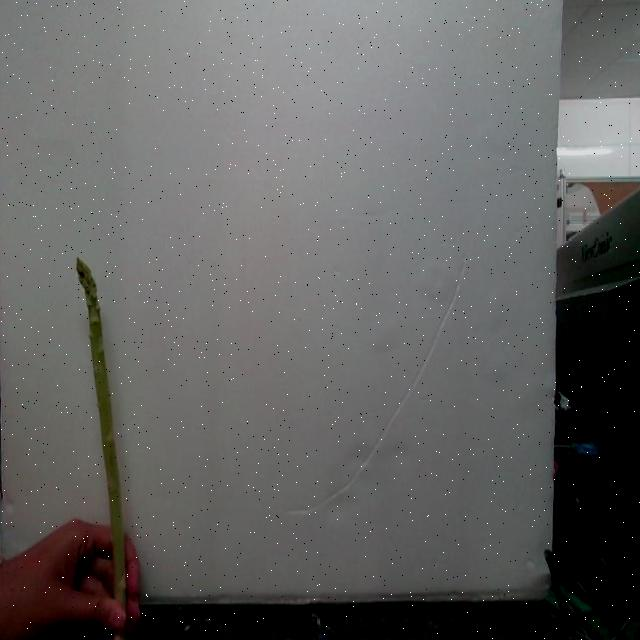aspargus: (73, 261, 131, 602)
